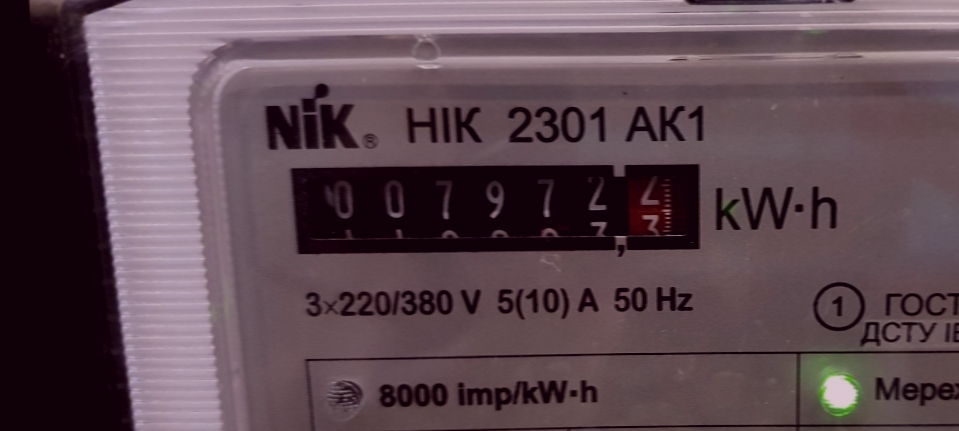0: (330, 176, 356, 218), (382, 175, 406, 217)
2: (585, 173, 608, 211), (637, 172, 660, 206)
3: (639, 210, 661, 235)
7: (533, 173, 558, 219), (432, 175, 456, 220)
9: (482, 175, 505, 218)
screen: (274, 150, 716, 266)
